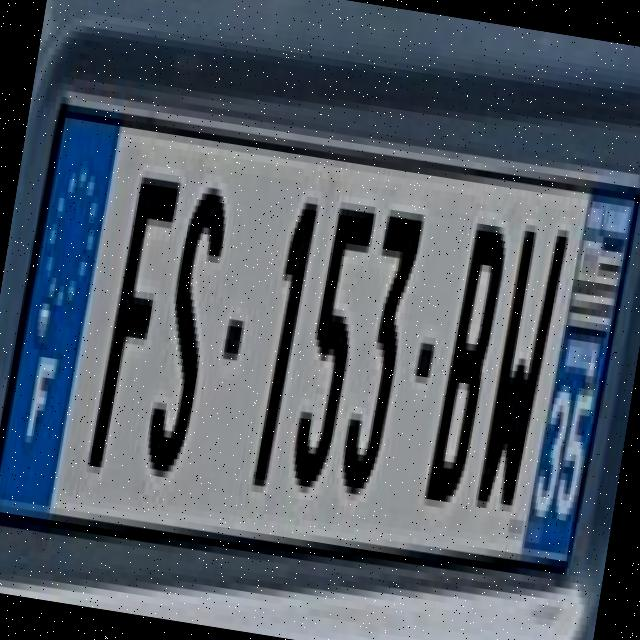EU: (0, 106, 639, 564)
France: (0, 101, 122, 521)
